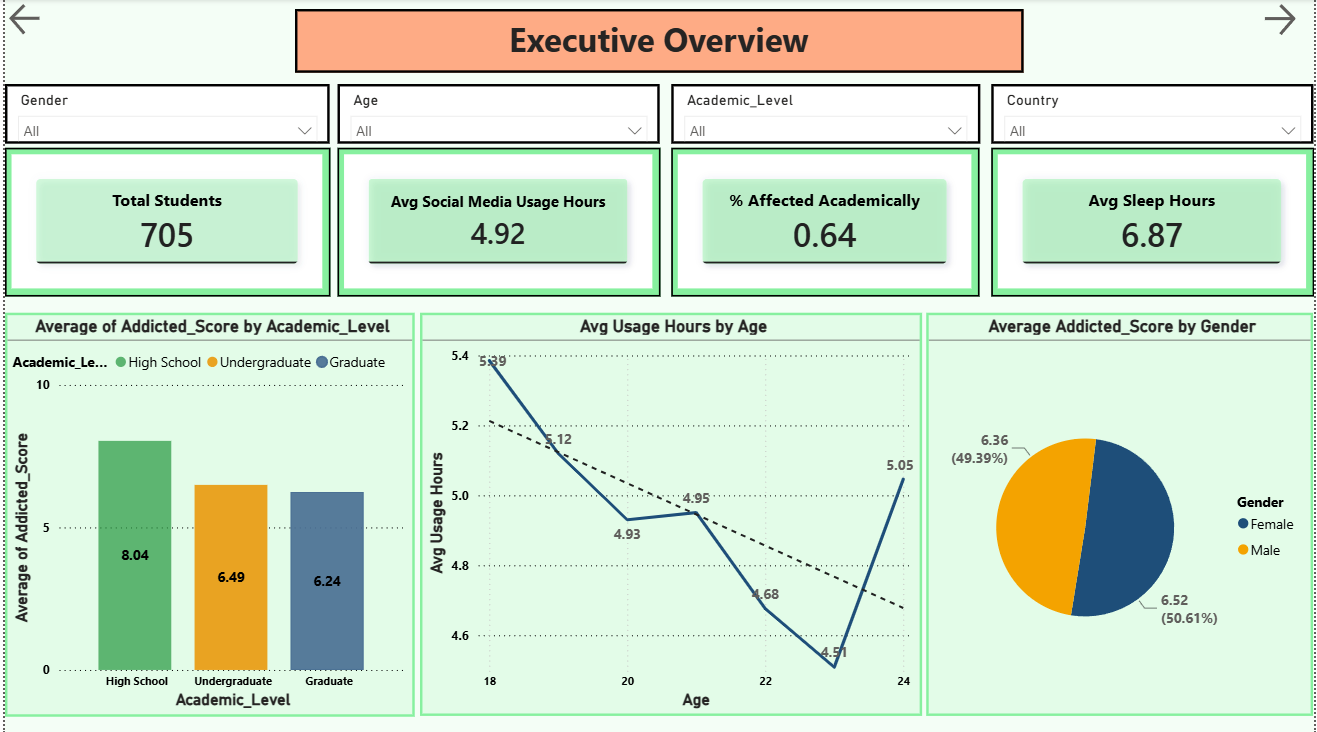

The page's visual inventory and layout, read from the dashboard file:
{"tool":"powerbi","page":{"name":"Executive Overview","canvas":[1280,720],"ordinal":1},"visuals":[{"type":"cardVisual","title":"Total Students","fields":{"Data":["CountNonNull(Platform Details.Student_ID)"]},"box":[0,145.5,318.4,145.5],"z":0},{"type":"cardVisual","title":"Total Students","fields":{"Data":["Platform Details.Avg Usage Hours"]},"box":[325.2,145.5,315.6,145.5],"z":1000},{"type":"cardVisual","title":"Total Students","fields":{"Data":["Platform Details.% Affected Academically"]},"box":[651.8,145.5,301.9,145.5],"z":2000},{"type":"cardVisual","title":"Total Students","fields":{"Data":["Student Details.Avg Sleep Hours"]},"box":[964.7,145.5,315.6,145.5],"z":3000},{"type":"columnChart","title":"Average of Addicted_Score by Academic_Level ","fields":{"Category":["Student Details.Academic_Level"],"Y":["Avg(Student Details.Addicted_Score)"],"Series":["Student Details.Academic_Level"]},"box":[4.9,306.9,401.1,395],"z":4000},{"type":"lineChart","fields":{"Category":["Student Details.Age"],"Y":["Platform Details.Avg Usage Hours"]},"box":[405.9,306.6,491.5,394.7],"z":5000},{"type":"pieChart","title":"Average Addicted_Score by Gender","fields":{"Category":["Student Details.Gender"],"Y":["Avg(Student Details.Addicted_Score)"]},"box":[901.2,306.6,378.6,394.7],"z":6000},{"type":"actionButton","box":[1226.5,0,53.8,40.4],"z":7000},{"type":"textbox","box":[283.7,9.8,712.9,62.4],"z":8000},{"type":"slicer","fields":{"Values":["Student Details.Gender"]},"box":[0,83.2,317.9,58.7],"z":9000},{"type":"slicer","fields":{"Values":["Student Details.Age"]},"box":[325.3,83.2,315.5,58.7],"z":10000},{"type":"slicer","fields":{"Values":["Student Details.Academic_Level"]},"box":[651.8,83.2,302,58.7],"z":11000},{"type":"slicer","fields":{"Values":["Student Details.Country"]},"box":[964.8,83.2,315.5,58.7],"z":12000},{"type":"actionButton","box":[0,0,75.7,39.7],"z":13000}]}

Visuals, with their boxes in screenshot pixels (x1, y1, x2, y2), scaled from the page's 1280x720 canvas onto the 1317x732 screenshot:
"Total Students" cardVisual: (0,148,328,296)
"Total Students" cardVisual: (335,148,659,296)
"Total Students" cardVisual: (671,148,981,296)
"Total Students" cardVisual: (993,148,1316,296)
"Average of Addicted_Score by Academic_Level " columnChart: (5,312,418,714)
lineChart - Student Details.Age x Platform Details.Avg Usage Hours: (418,312,923,713)
"Average Addicted_Score by Gender" pieChart: (927,312,1316,713)
actionButton: (1262,0,1316,41)
textbox: (292,10,1025,73)
slicer - Student Details.Gender: (0,85,327,144)
slicer - Student Details.Age: (335,85,659,144)
slicer - Student Details.Academic_Level: (671,85,981,144)
slicer - Student Details.Country: (993,85,1316,144)
actionButton: (0,0,78,40)
